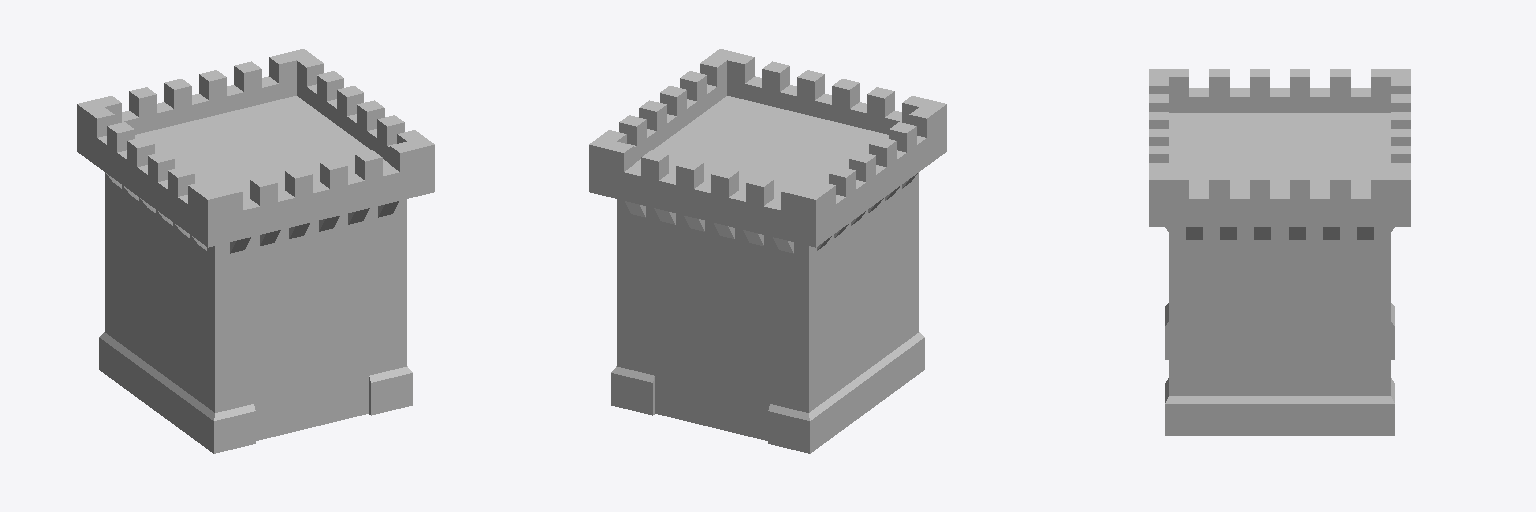
Rendered from CastleGate.obj.
The picture shows the model from 3 angles: view 1: azimuth 30°, elevation 25°; view 2: azimuth 150°, elevation 25°; view 3: azimuth 270°, elevation 25°; orthographic projection.
Visible parts, largest first — view 1: Cube_Cube.013, Cube.003_Cube.016, Cube.001_Cube.014, Cube.002_Cube.015; view 2: Cube_Cube.013, Cube.003_Cube.016, Cube.001_Cube.014, Cube.002_Cube.015; view 3: Cube.003_Cube.016, Cube_Cube.013, Cube.001_Cube.014, Cube.002_Cube.015.
Part boxes in pixels (x1,y1,x2,y2): Cube_Cube.013: (105,174,406,440); Cube.003_Cube.016: (77,49,434,247); Cube.001_Cube.014: (99,332,412,453); Cube.002_Cube.015: (105,173,406,256); Cube_Cube.013: (617,173,918,440); Cube.003_Cube.016: (589,49,946,247); Cube.001_Cube.014: (611,332,924,453); Cube.002_Cube.015: (617,173,918,256); Cube.003_Cube.016: (1149,69,1410,226); Cube_Cube.013: (1169,233,1390,395); Cube.001_Cube.014: (1165,303,1394,435); Cube.002_Cube.015: (1165,227,1394,239).
Size of the model in its own units: 5.91 by 6.55 by 5.91.